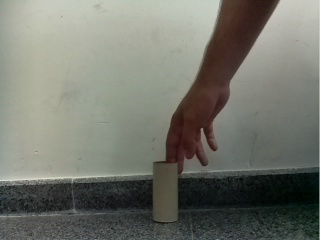rollo papel: (152, 160, 179, 223)
